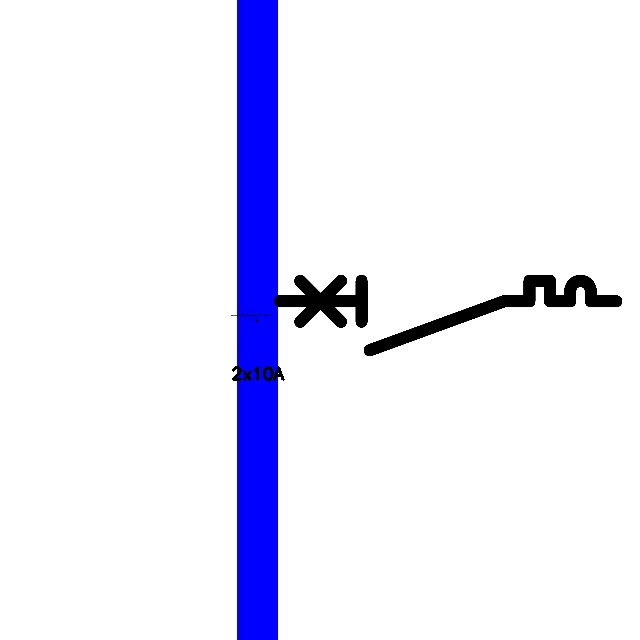interruptor_termomagnetico: (271, 272, 625, 358)
